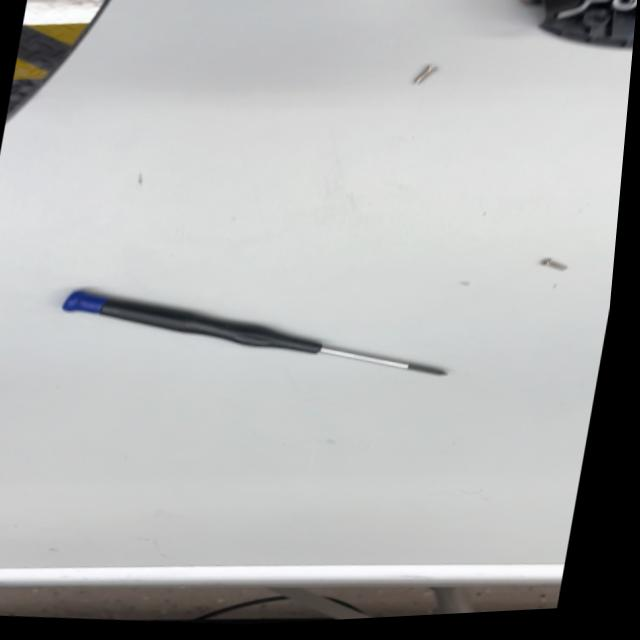screw: (402, 55, 449, 91), (525, 249, 580, 275)
screw_driver: (47, 262, 479, 406)
